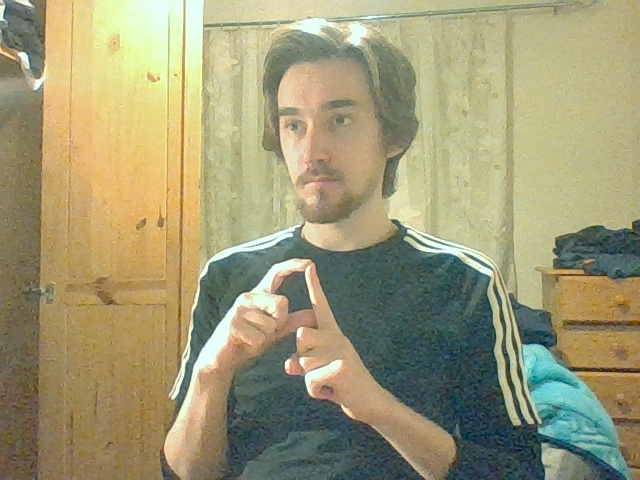daughter: (225, 257, 348, 382)
